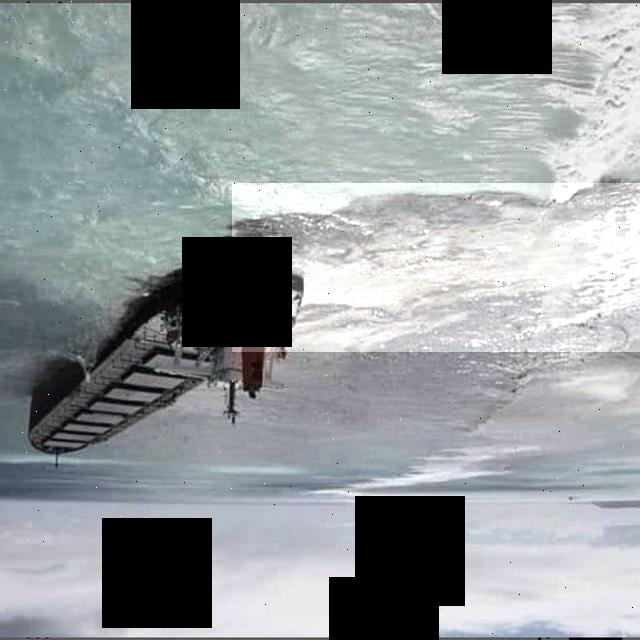oil spill: (232, 184, 640, 352)
